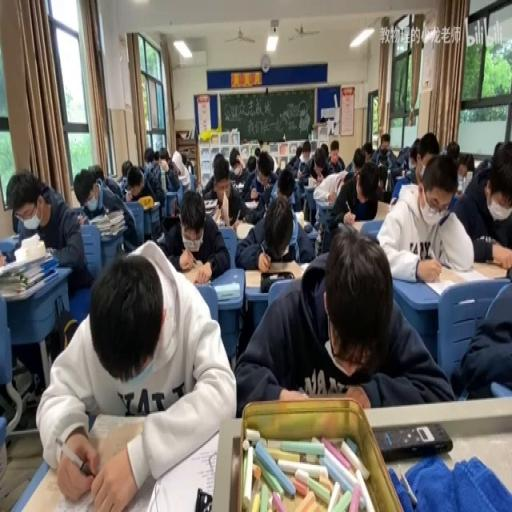calculator: (420, 257, 506, 293), (243, 259, 304, 284), (178, 262, 209, 283), (214, 282, 240, 300), (234, 219, 256, 240), (374, 198, 392, 219), (397, 181, 415, 202), (98, 220, 125, 234), (101, 208, 123, 220), (294, 209, 305, 228), (293, 179, 302, 202), (88, 213, 104, 225), (140, 199, 159, 209), (203, 196, 217, 209), (212, 205, 222, 223), (456, 176, 466, 194), (305, 176, 317, 188), (176, 171, 189, 182), (243, 201, 258, 209), (233, 182, 245, 192), (319, 199, 335, 206), (194, 282, 210, 287), (11, 232, 20, 240), (404, 169, 410, 179), (294, 176, 302, 181)
paper: (38, 239, 236, 508), (234, 228, 449, 415), (376, 149, 475, 282), (8, 169, 91, 297), (234, 189, 314, 269), (161, 189, 229, 282), (77, 165, 138, 253), (325, 155, 383, 240), (293, 140, 326, 210), (146, 145, 181, 201), (218, 146, 248, 192), (388, 136, 418, 176), (417, 132, 440, 164), (326, 141, 346, 172), (372, 134, 390, 165), (276, 171, 294, 199), (457, 151, 474, 176), (474, 148, 492, 171), (88, 163, 104, 185), (352, 150, 365, 176), (376, 164, 387, 194), (446, 140, 460, 160), (127, 179, 141, 198), (258, 166, 272, 185), (362, 140, 372, 164), (184, 152, 194, 174), (122, 159, 132, 178), (144, 151, 154, 168), (314, 158, 325, 173), (245, 154, 255, 170), (117, 176, 127, 192), (260, 138, 270, 154), (158, 148, 168, 163), (319, 142, 328, 158), (493, 141, 503, 155), (302, 145, 310, 161), (294, 144, 302, 158), (253, 145, 260, 158)
person: (374, 422, 451, 461), (194, 488, 211, 509), (486, 258, 504, 268)
